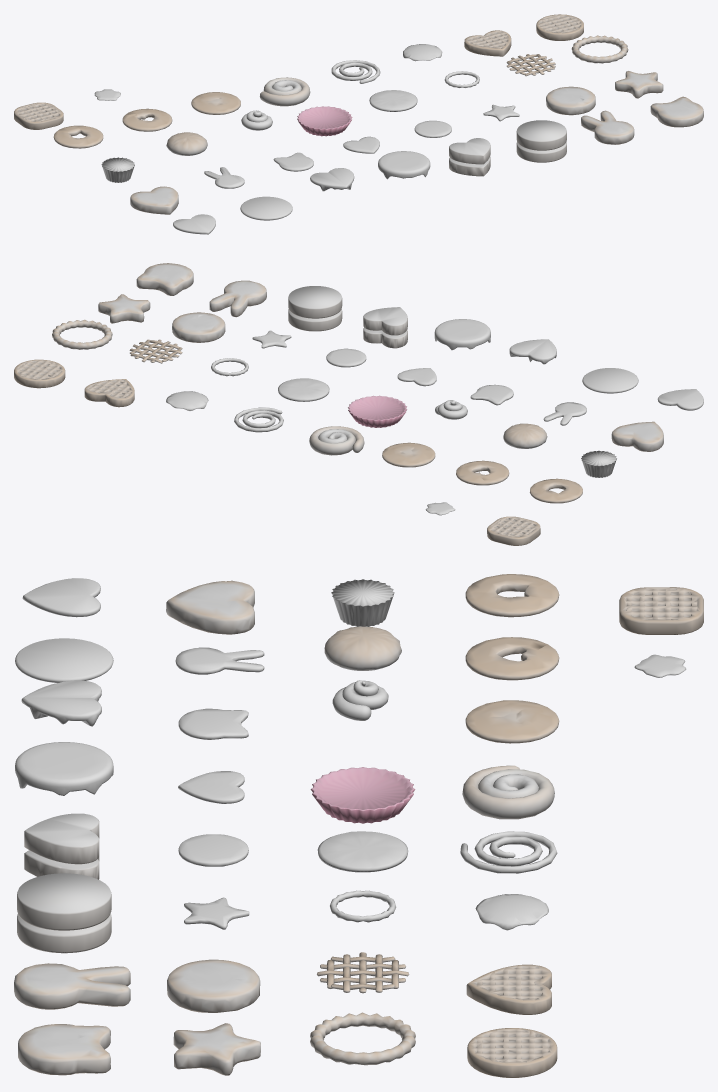
Rendered from prp_treats_bases.glb.
3 renders of one model, top to bottom at view 1: azimuth 30°, elevation 25°; view 2: azimuth 150°, elevation 25°; view 3: azimuth 270°, elevation 25°, orthographic. The views are drawn at different scales.
Parts seen in each view (by area): view 1: INST_prp_treats_bases_cake_sponge_round, INST_prp_treats_bases_cake_sponge_heart, INST_prp_treats_bases_pie_dish, INST_prp_treats_bases_cookie_cat, INST_prp_treats_bases_cake_frost_round, INST_prp_treats_bases_cookie_round, INST_prp_treats_bases_roll_dough, INST_prp_treats_bases_cookie_bunny, INST_prp_treats_bases_waffle_square, INST_prp_treats_bases_cookie_heart, INST_prp_treats_bases_waffle_round, INST_prp_treats_bases_cake_cream_round (+20 smaller); view 2: INST_prp_treats_bases_cake_sponge_round, INST_prp_treats_bases_cake_sponge_heart, INST_prp_treats_bases_pie_dish, INST_prp_treats_bases_cookie_cat, INST_prp_treats_bases_cake_frost_round, INST_prp_treats_bases_cookie_round, INST_prp_treats_bases_cookie_bunny, INST_prp_treats_bases_roll_dough, INST_prp_treats_bases_waffle_square, INST_prp_treats_bases_cookie_heart, INST_prp_treats_bases_waffle_round, INST_prp_treats_bases_cake_cream_round (+19 smaller); view 3: INST_prp_treats_bases_cake_sponge_round, INST_prp_treats_bases_cookie_bunny, INST_prp_treats_bases_pie_dish, INST_prp_treats_bases_cake_sponge_heart, INST_prp_treats_bases_cookie_cat, INST_prp_treats_bases_cake_frost_round, INST_prp_treats_bases_cookie_round, INST_prp_treats_bases_roll_dough, INST_prp_treats_bases_cookie_heart, INST_prp_treats_bases_waffle_round, INST_prp_treats_bases_waffle_square, INST_prp_treats_bases_cake_cream_round (+22 smaller).
Part boxes in pixels (x1,y1,x2,y2): INST_prp_treats_bases_cake_sponge_round: [516, 120, 566, 162]; INST_prp_treats_bases_cake_sponge_heart: [449, 138, 490, 176]; INST_prp_treats_bases_pie_dish: [297, 106, 352, 136]; INST_prp_treats_bases_cookie_cat: [650, 96, 703, 127]; INST_prp_treats_bases_cake_frost_round: [378, 151, 430, 179]; INST_prp_treats_bases_cookie_round: [546, 86, 595, 115]; INST_prp_treats_bases_roll_dough: [259, 77, 310, 106]; INST_prp_treats_bases_cookie_bunny: [581, 110, 634, 144]; INST_prp_treats_bases_waffle_square: [14, 102, 63, 129]; INST_prp_treats_bases_cookie_heart: [130, 186, 178, 214]; INST_prp_treats_bases_waffle_round: [536, 14, 583, 40]; INST_prp_treats_bases_cake_cream_round: [240, 196, 292, 220]; INST_prp_treats_bases_cake_sponge_round: [288, 286, 342, 331]; INST_prp_treats_bases_cake_sponge_heart: [363, 307, 407, 348]; INST_prp_treats_bases_pie_dish: [348, 395, 407, 427]; INST_prp_treats_bases_cookie_cat: [136, 263, 193, 295]; INST_prp_treats_bases_cake_frost_round: [434, 319, 490, 350]; INST_prp_treats_bases_cookie_round: [172, 312, 225, 342]; INST_prp_treats_bases_cookie_bunny: [209, 280, 266, 317]; INST_prp_treats_bases_roll_dough: [309, 426, 364, 455]; INST_prp_treats_bases_waffle_square: [487, 516, 540, 545]; INST_prp_treats_bases_cookie_heart: [611, 421, 663, 451]; INST_prp_treats_bases_waffle_round: [14, 359, 65, 388]; INST_prp_treats_bases_cake_cream_round: [582, 368, 638, 393]; INST_prp_treats_bases_cake_sponge_round: [17, 873, 111, 953]; INST_prp_treats_bases_cookie_bunny: [14, 963, 130, 1009]; INST_prp_treats_bases_pie_dish: [310, 767, 415, 823]; INST_prp_treats_bases_cake_sponge_heart: [24, 813, 99, 879]; INST_prp_treats_bases_cookie_cat: [18, 1024, 110, 1075]; INST_prp_treats_bases_cake_frost_round: [15, 742, 113, 795]; INST_prp_treats_bases_cookie_round: [167, 959, 260, 1012]; INST_prp_treats_bases_roll_dough: [462, 765, 554, 819]; INST_prp_treats_bases_cookie_heart: [166, 580, 254, 634]; INST_prp_treats_bases_waffle_round: [467, 1028, 557, 1077]; INST_prp_treats_bases_waffle_square: [619, 587, 703, 634]; INST_prp_treats_bases_cake_cream_round: [15, 638, 113, 682].
Bounding box in the file's own units: 4.6 × 0.2781 × 2.77.
